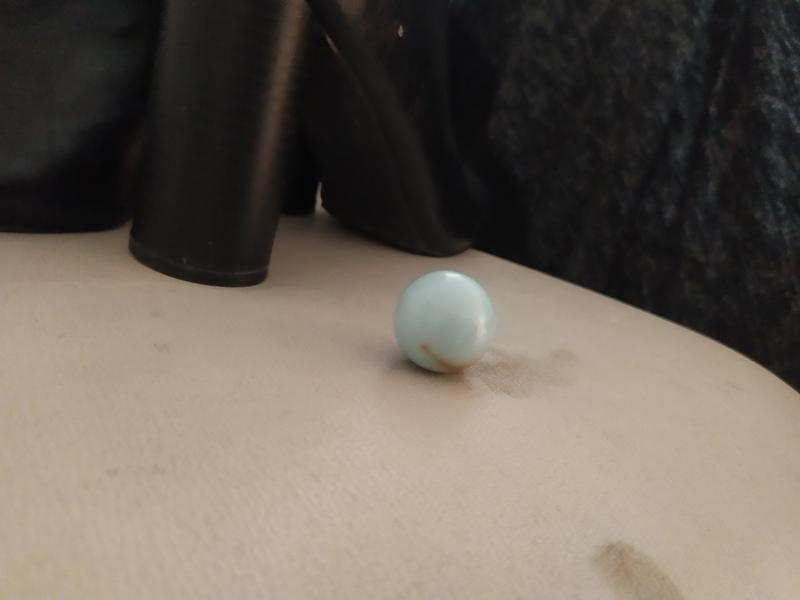Warning: (391, 267, 499, 378)
